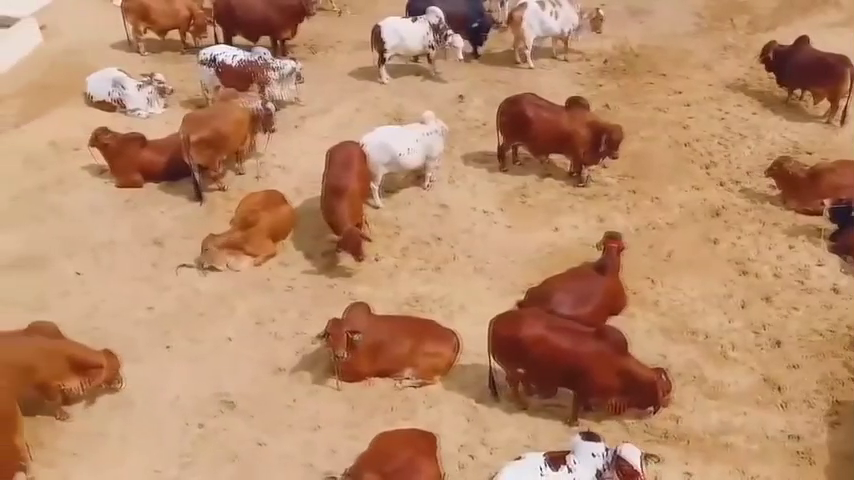bo: (477, 307, 681, 432), (2, 312, 130, 437), (487, 83, 630, 191), (515, 215, 639, 322), (174, 81, 284, 199), (316, 303, 467, 386), (356, 102, 454, 216), (193, 187, 303, 280), (756, 28, 852, 132), (475, 429, 658, 480), (498, 1, 619, 76), (364, 5, 468, 90), (80, 116, 188, 196), (319, 138, 379, 271), (192, 39, 305, 109), (74, 57, 178, 128), (402, 1, 502, 71), (331, 421, 449, 473), (209, 2, 322, 53), (759, 155, 852, 214), (115, 2, 204, 52), (813, 196, 854, 267)
